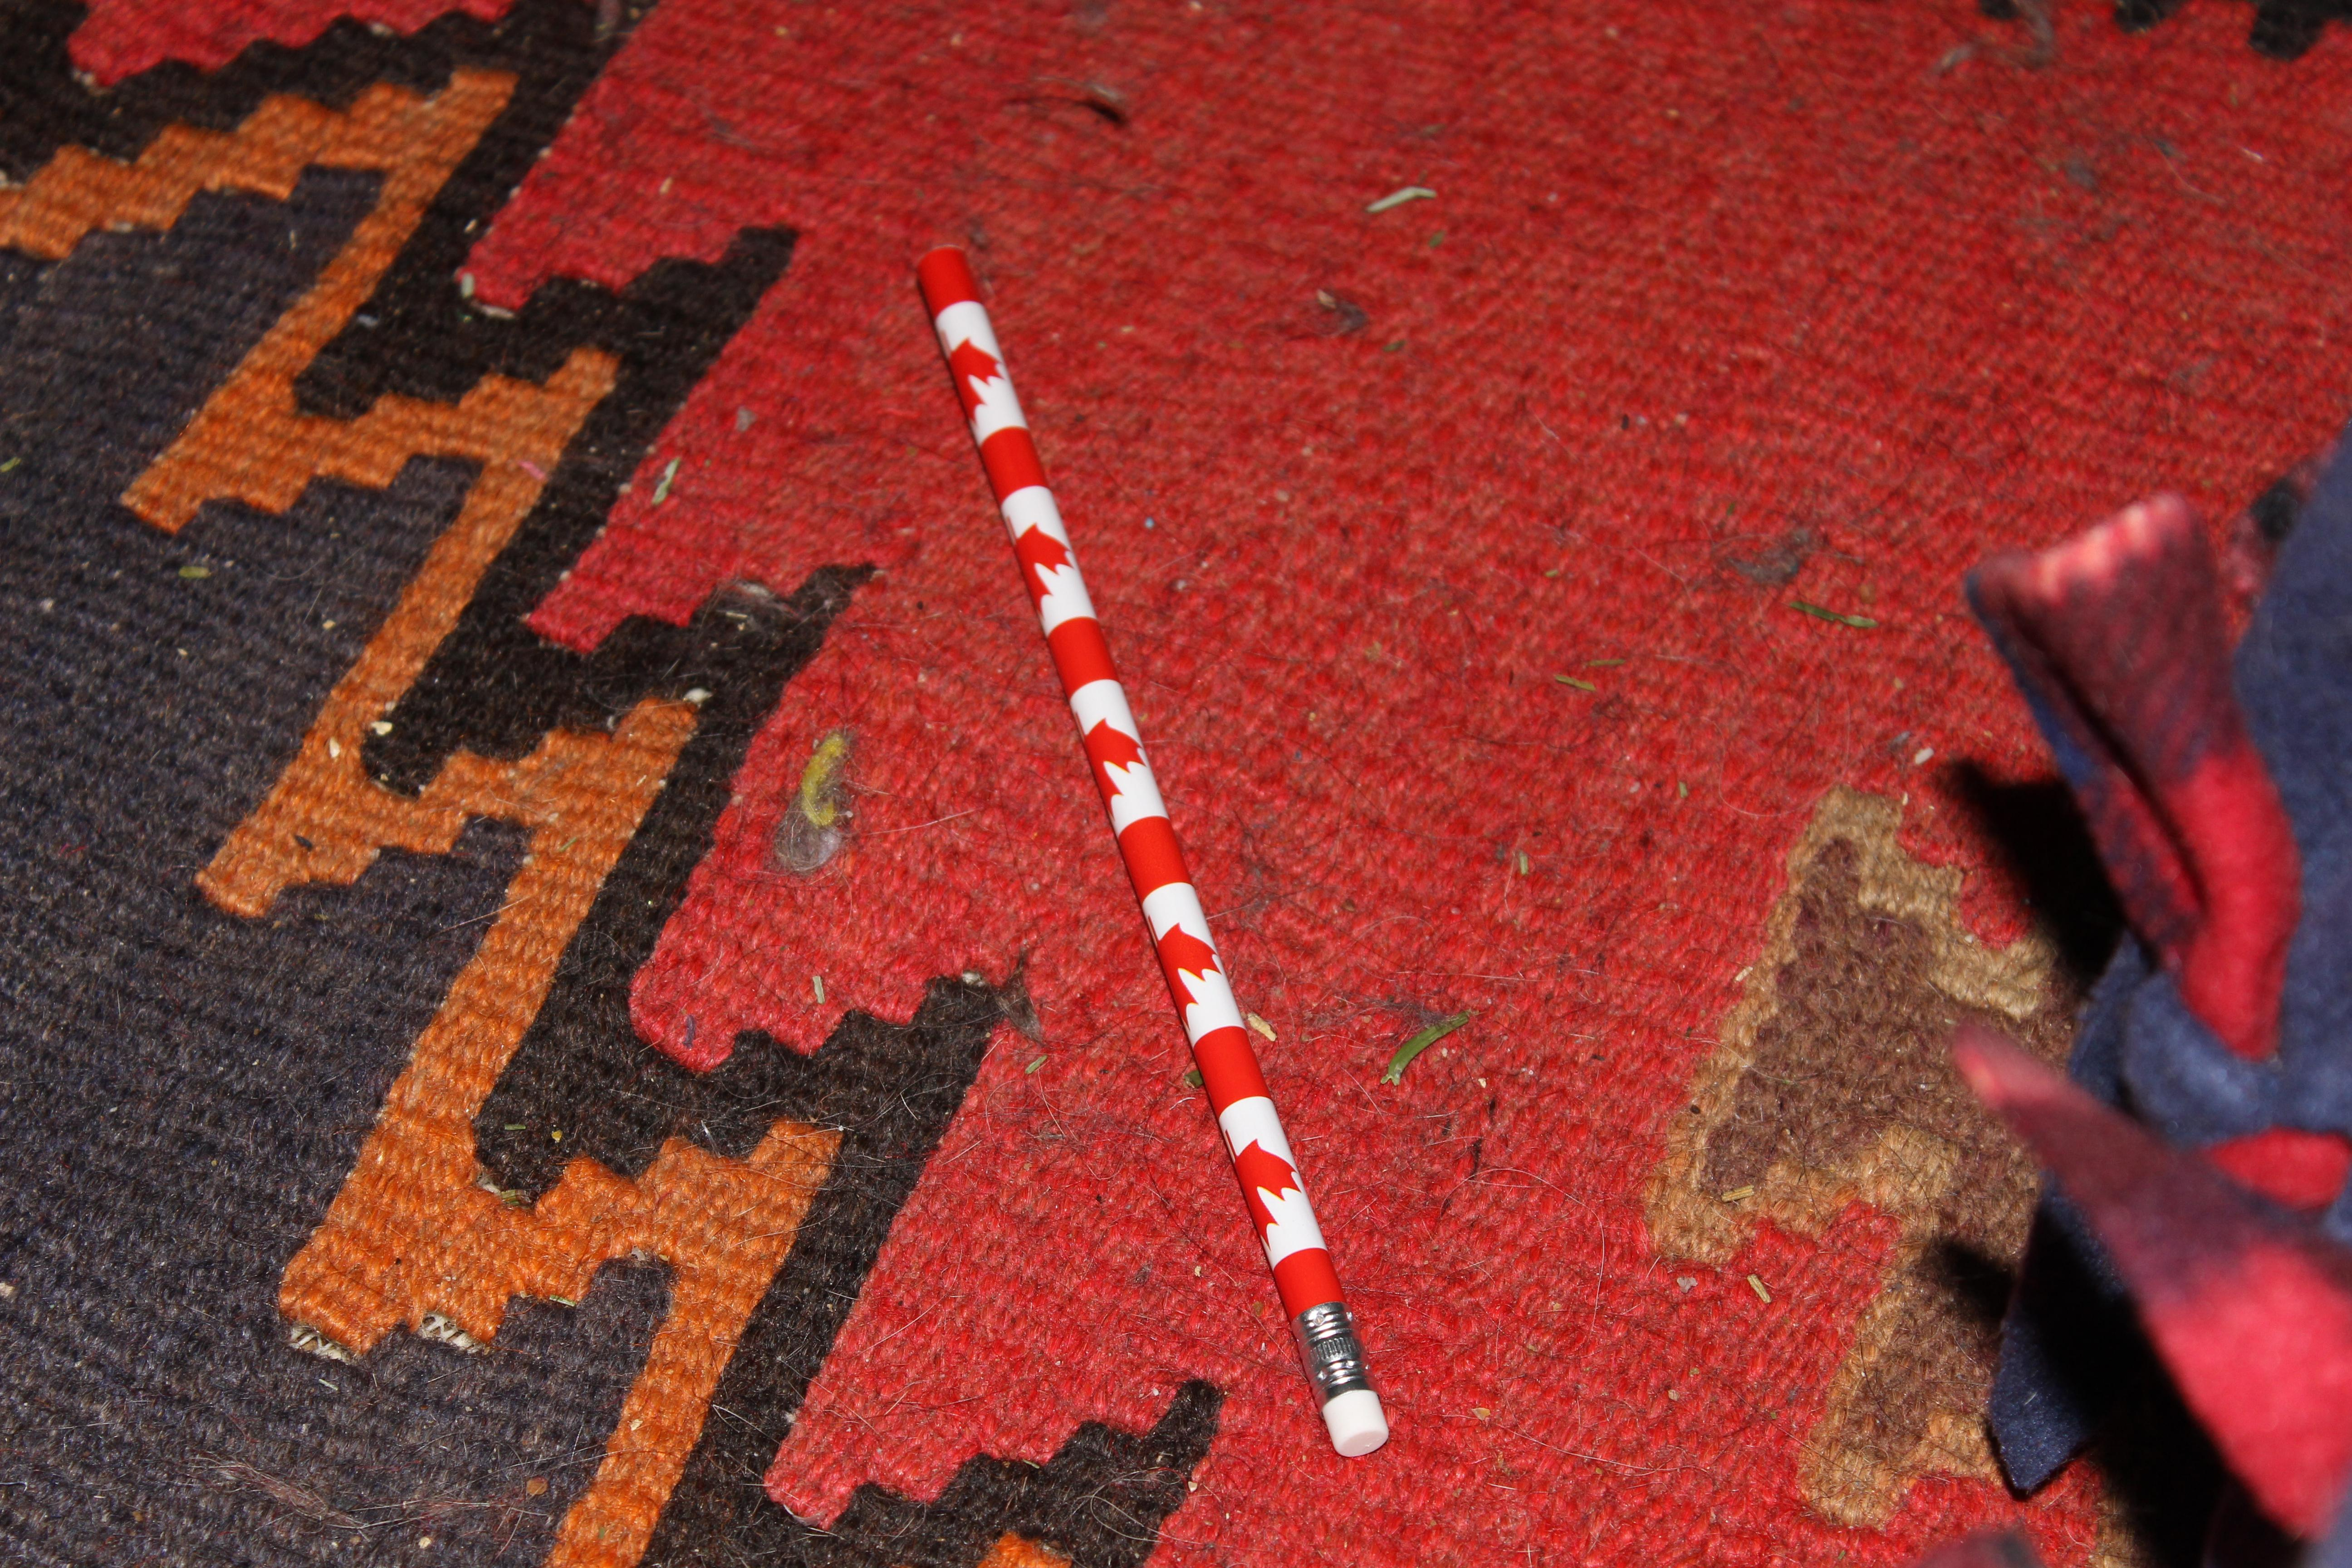canadaPencil: (875, 217, 1435, 1487)
